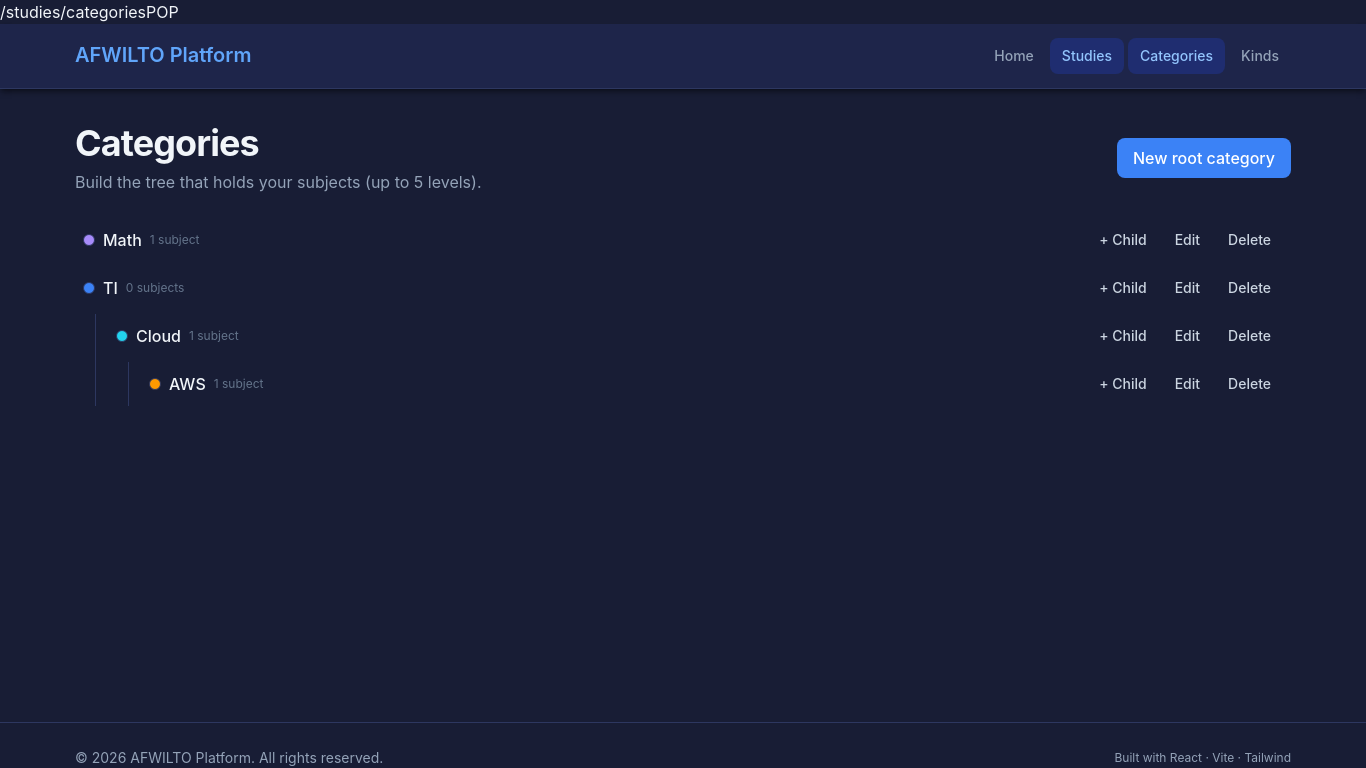
Test: CategoriesPage — edit (S09a-6) › a rename sends only the name
Expected: the heading "Categories" is shown, left=75, top=121, right=259, bottom=165
Expected: the text "AWS" is shown, left=169, top=372, right=206, bottom=396
Click the button with aria-label "Edit Cloud": (1187, 336) left=1163, top=320, right=1212, bottom=352
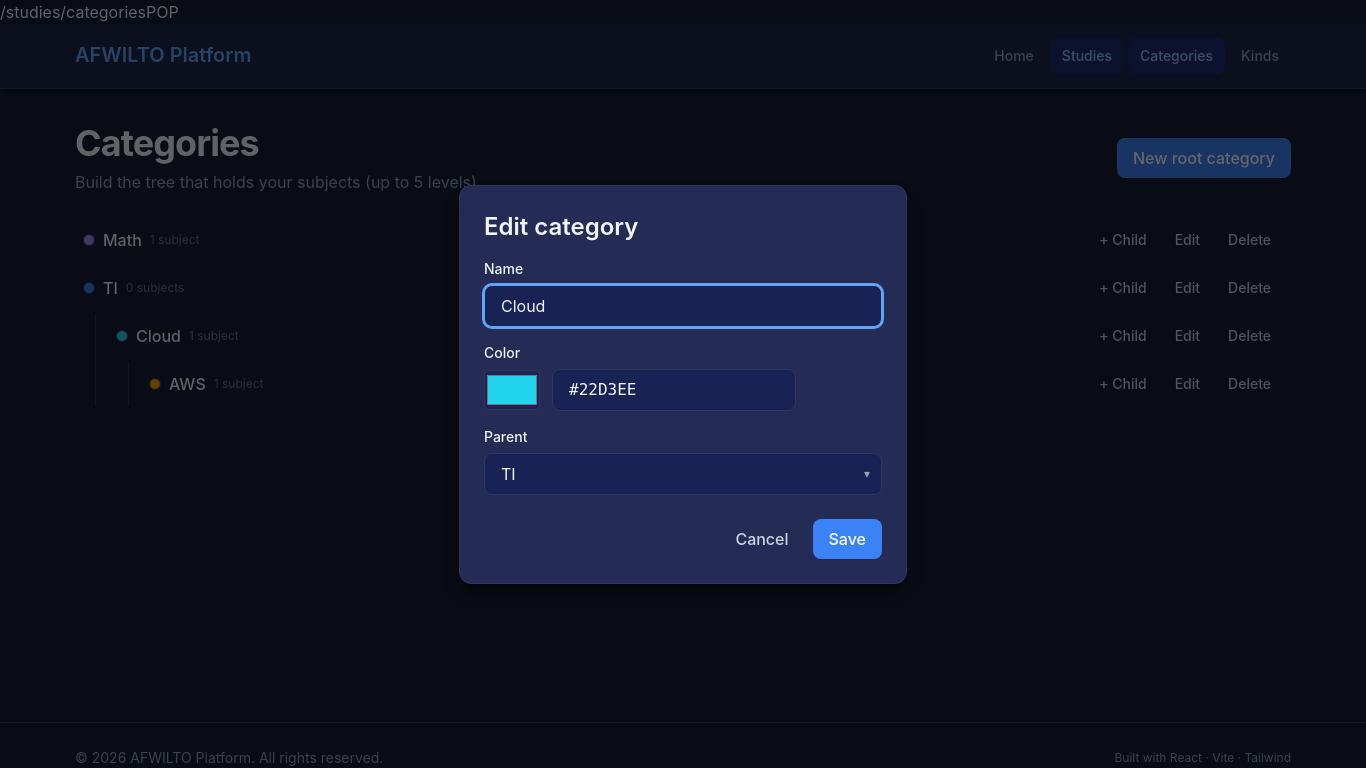
Replace the text in the field labelled "Name" with "Cloud Computing": (683, 306) left=484, top=284, right=882, bottom=326
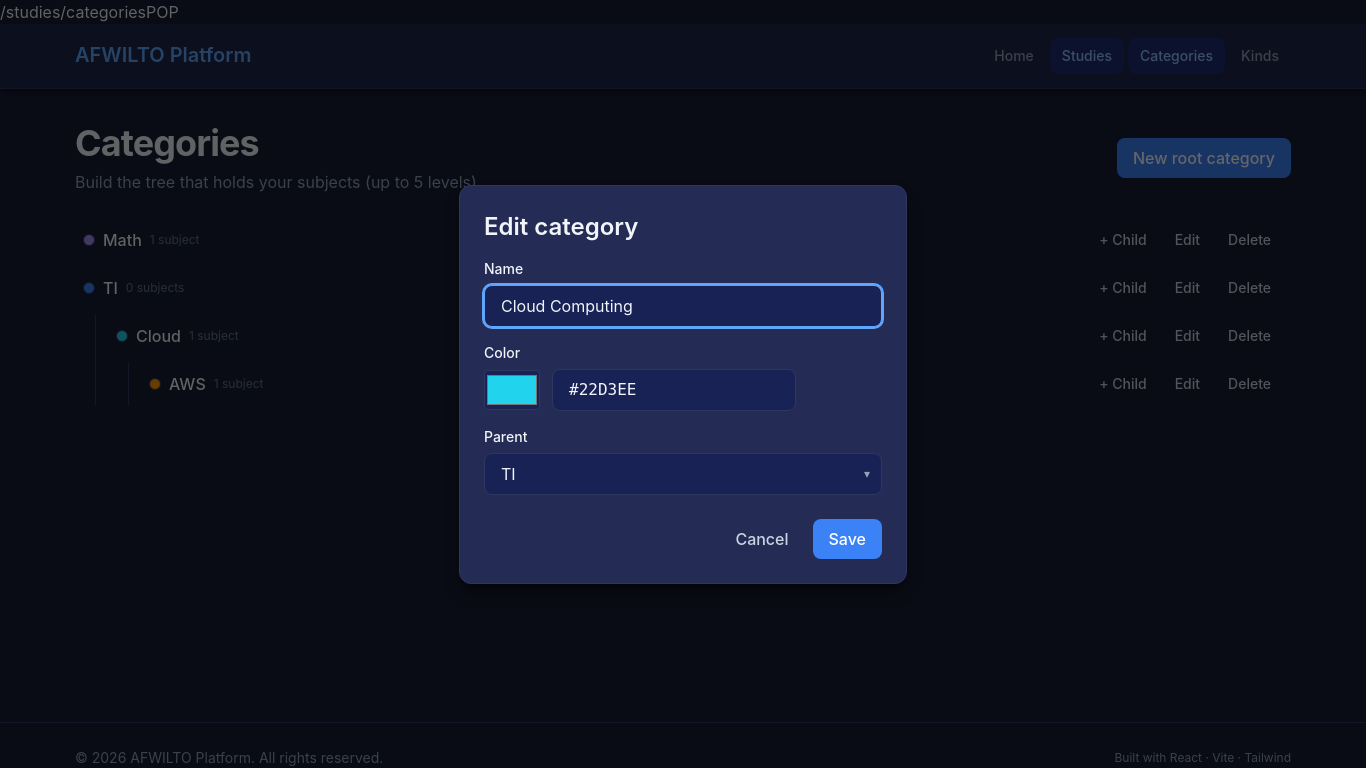
Click the button "Save": (847, 538) left=812, top=518, right=882, bottom=558
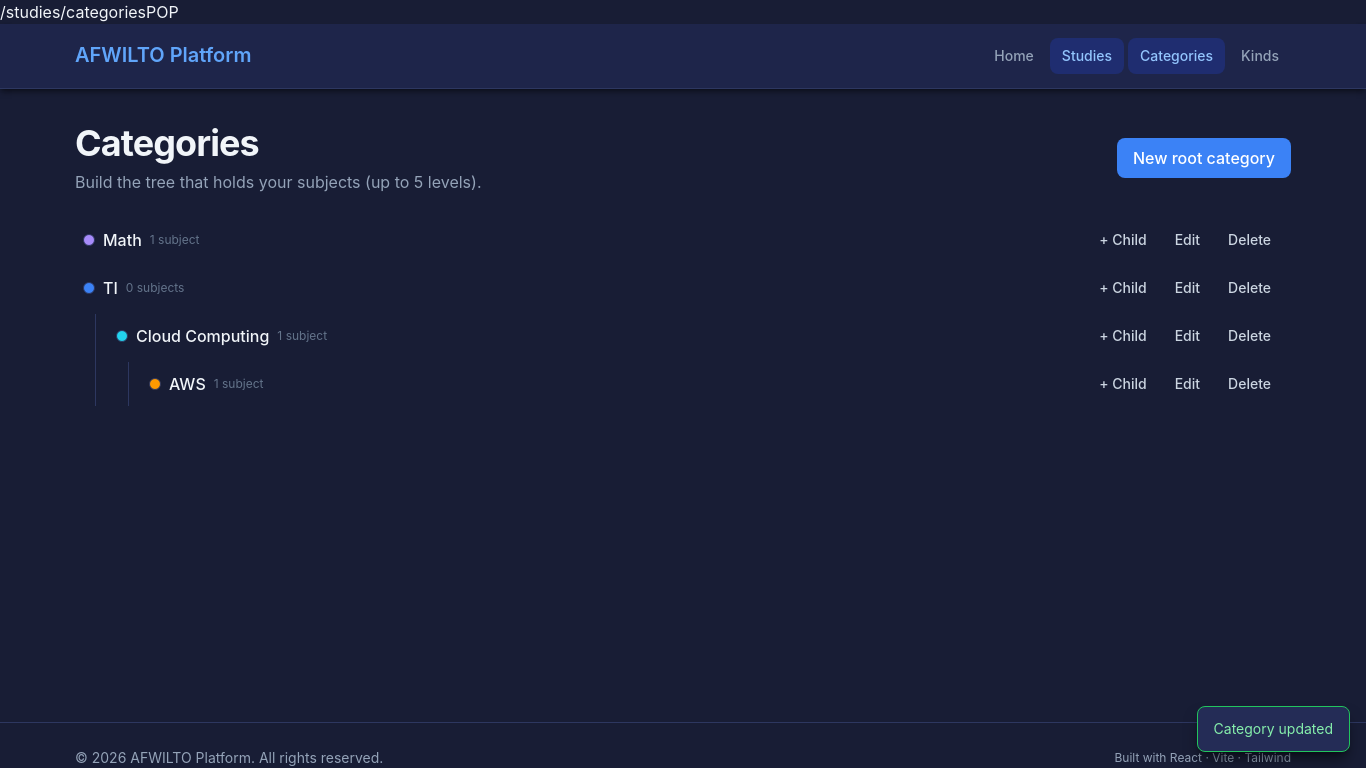
Expected: the text "Category updated" is shown, left=1197, top=706, right=1350, bottom=752
Expected: the text "Cloud Computing" is shown, left=136, top=324, right=269, bottom=348
